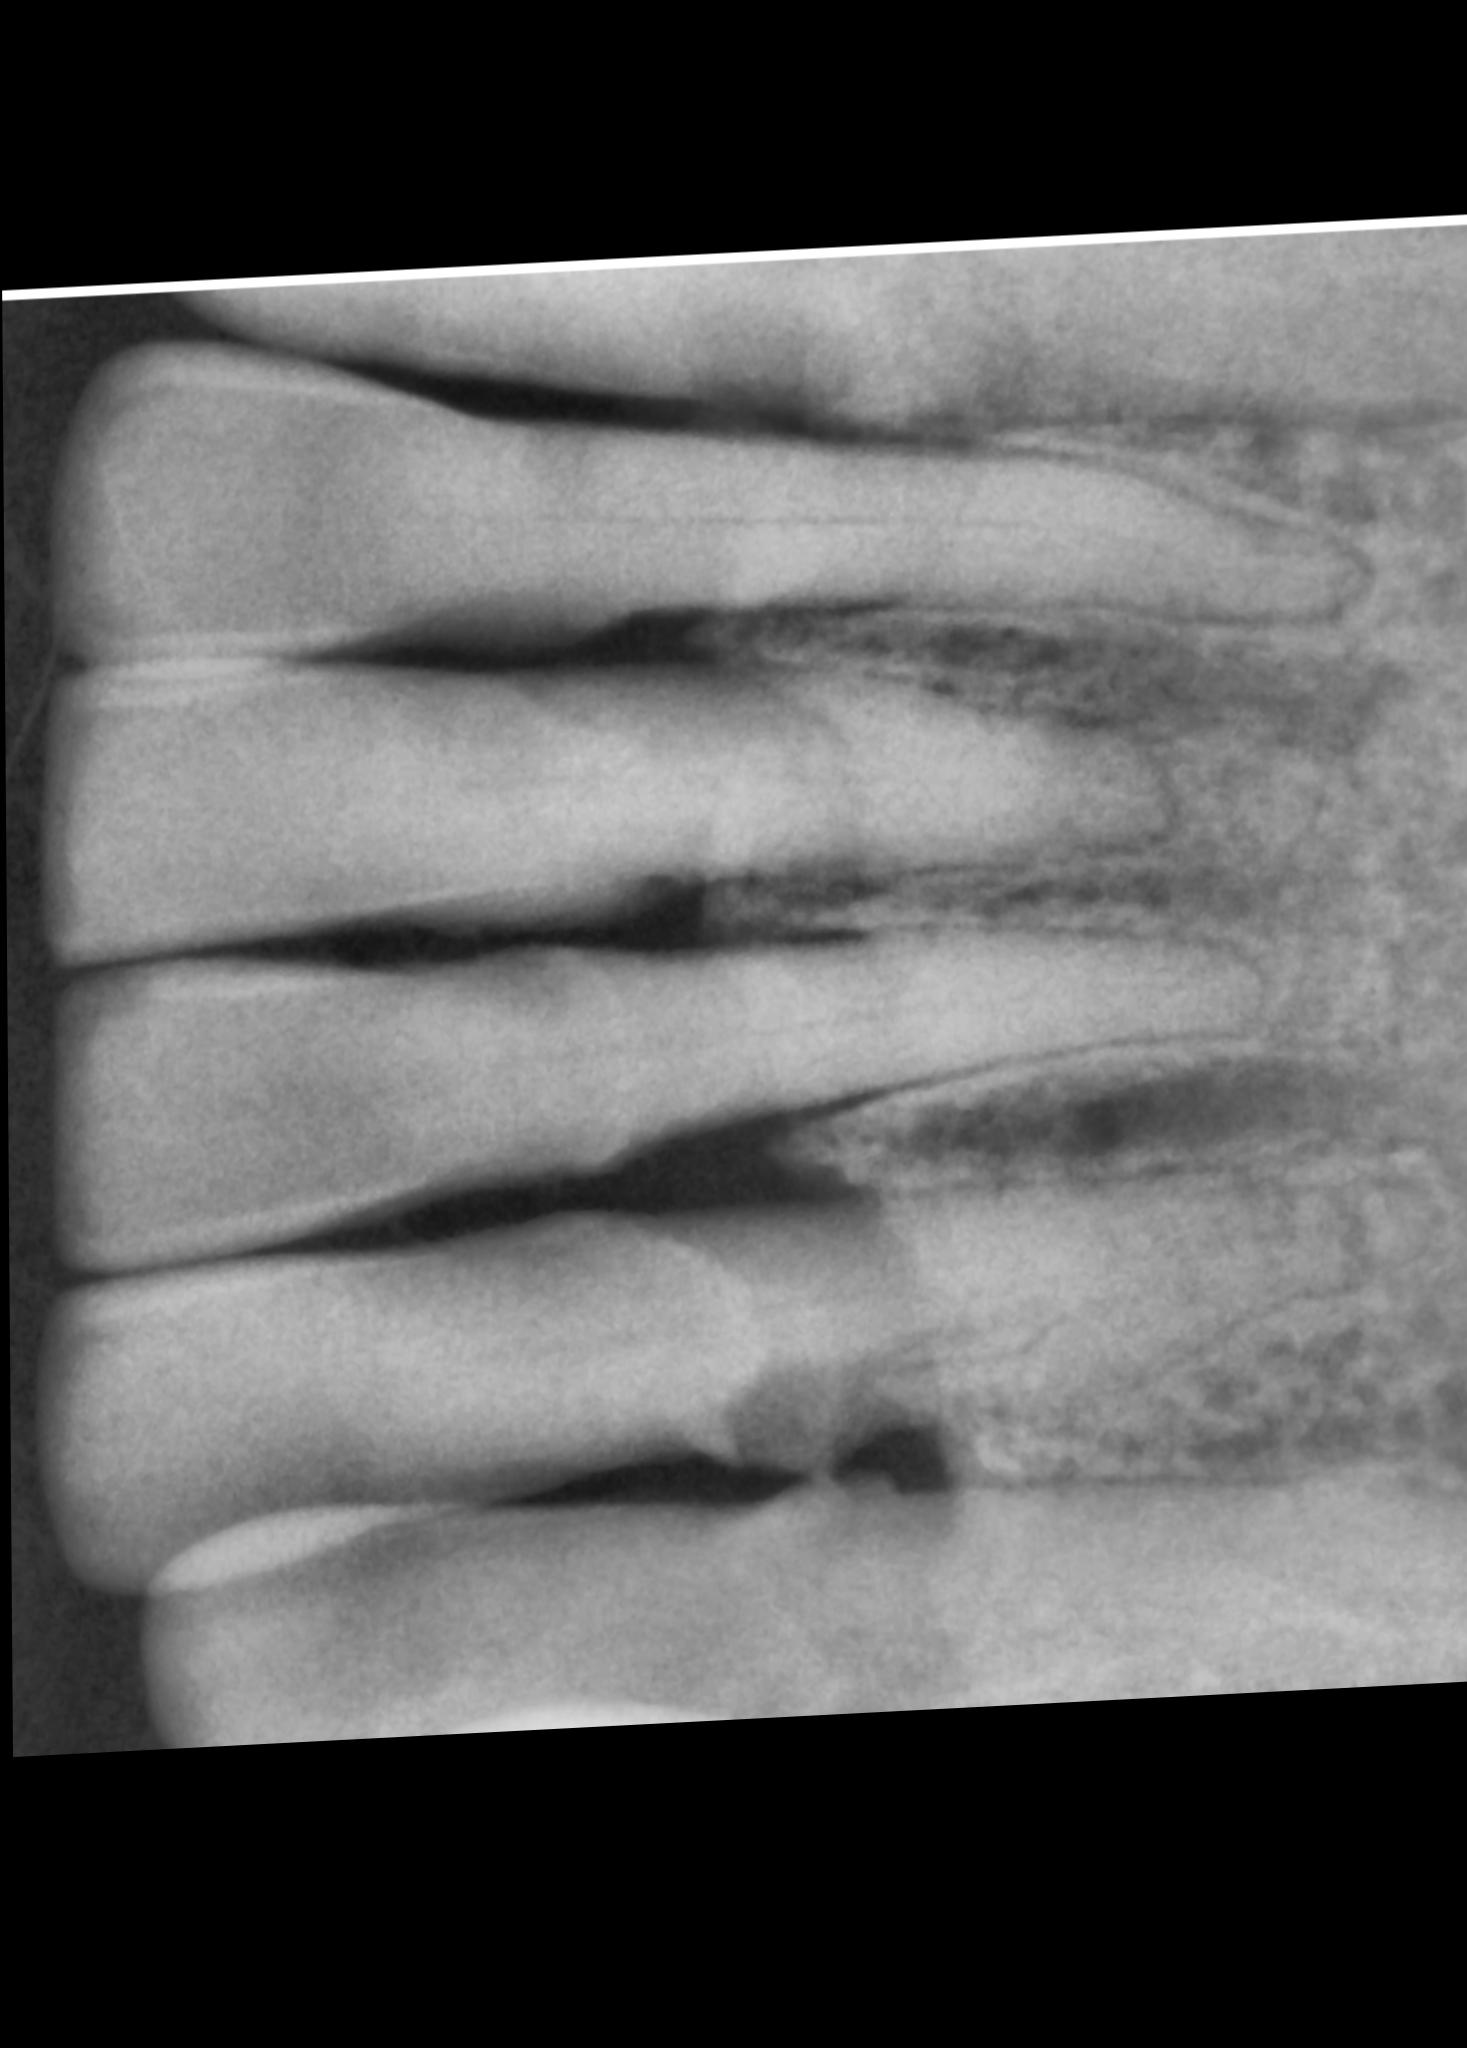Individual Tooth: (38, 1188, 1421, 1592), (56, 348, 1345, 662), (55, 941, 1256, 1270), (139, 1486, 1467, 1751), (46, 662, 1167, 963), (181, 247, 1467, 450)
